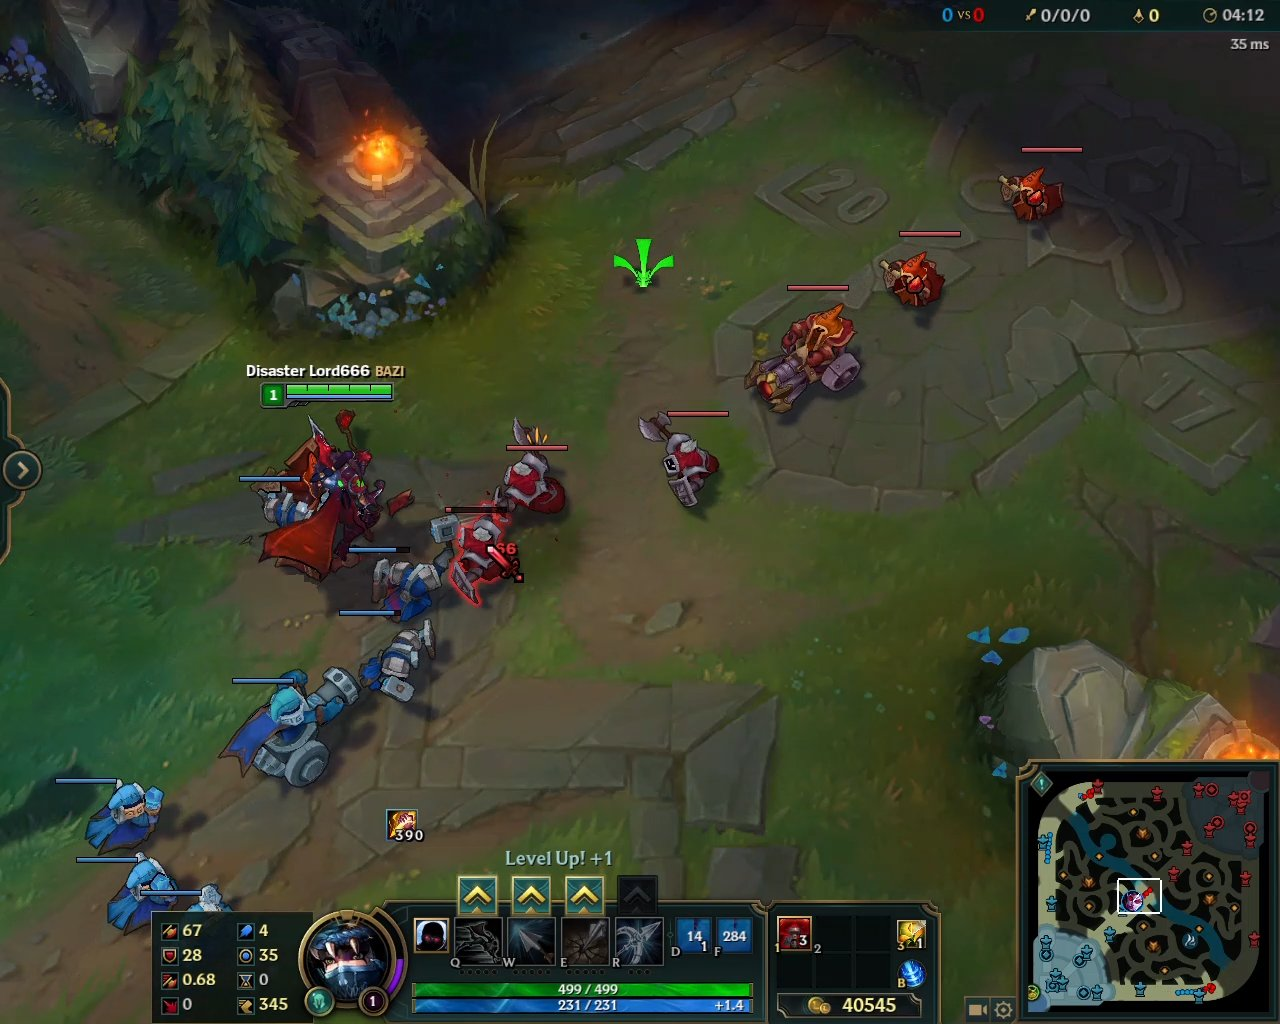EnemyMinion: (745, 285, 862, 420), (635, 411, 727, 511), (492, 417, 571, 529), (438, 505, 517, 609), (990, 147, 1084, 226), (877, 232, 960, 312)
Vayne: (245, 417, 398, 590)
